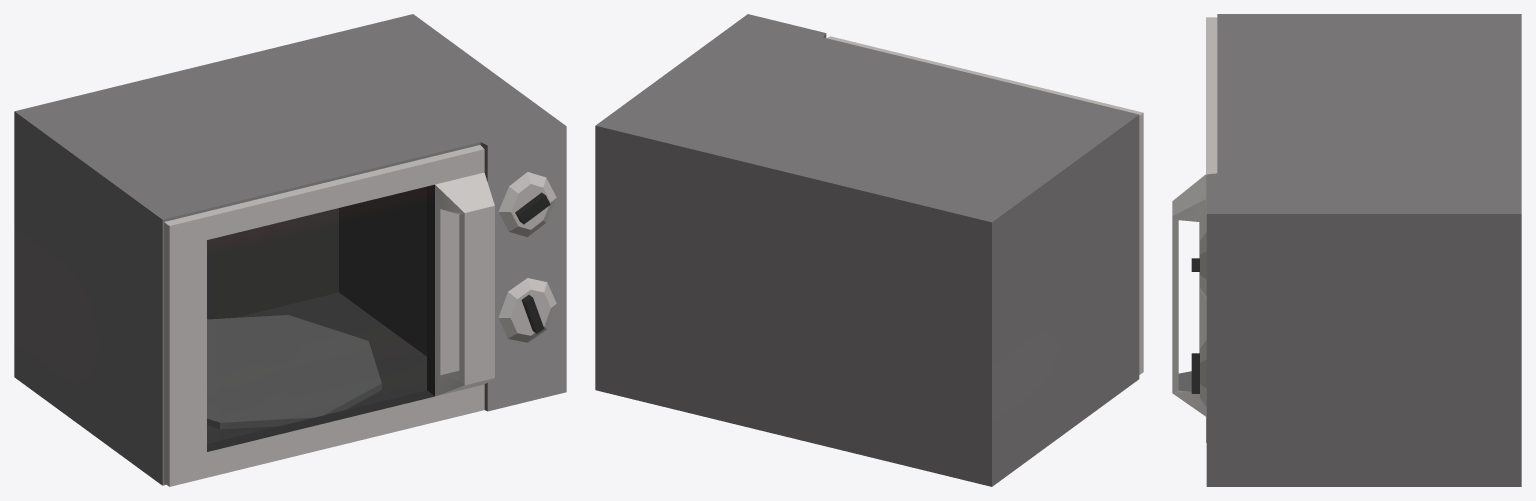
File: af9d14fa-5197-40d3-a8c8-88e49abdb156.glb
3 views of the same model, side by side, from view 1: azimuth 30°, elevation 25°; view 2: azimuth 150°, elevation 25°; view 3: azimuth 270°, elevation 25° (orthographic). The views are drawn at different scales.
Parts seen in each view (by area): view 1: MicroOvenWallMount; view 2: MicroOvenWallMount; view 3: MicroOvenWallMount.
Part boxes in pixels (x1,y1,x2,y2): MicroOvenWallMount: [14, 14, 566, 486]; MicroOvenWallMount: [595, 14, 1143, 486]; MicroOvenWallMount: [1172, 14, 1521, 486].
Size of what is drawn, in the model's own units: 0.6976 by 0.4446 by 0.5153.
Materials: 2 (2 with a texture image).
